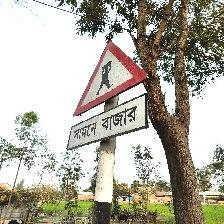Market-in-front: (68, 38, 150, 151)
